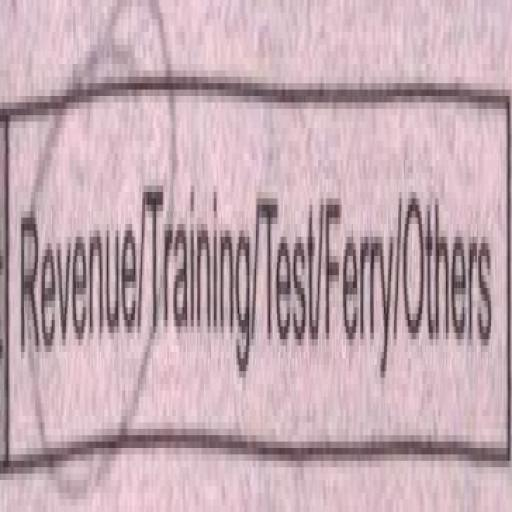check: (15, 36, 144, 512)
